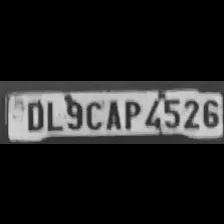2: (180, 95, 200, 129)
4: (142, 95, 162, 129)
5: (160, 94, 180, 128)
6: (200, 96, 220, 128)
9: (62, 96, 82, 128)
A: (102, 96, 122, 130)
C: (82, 97, 104, 128)
D: (22, 97, 44, 130)
L: (43, 96, 61, 130)
P: (120, 96, 140, 128)
